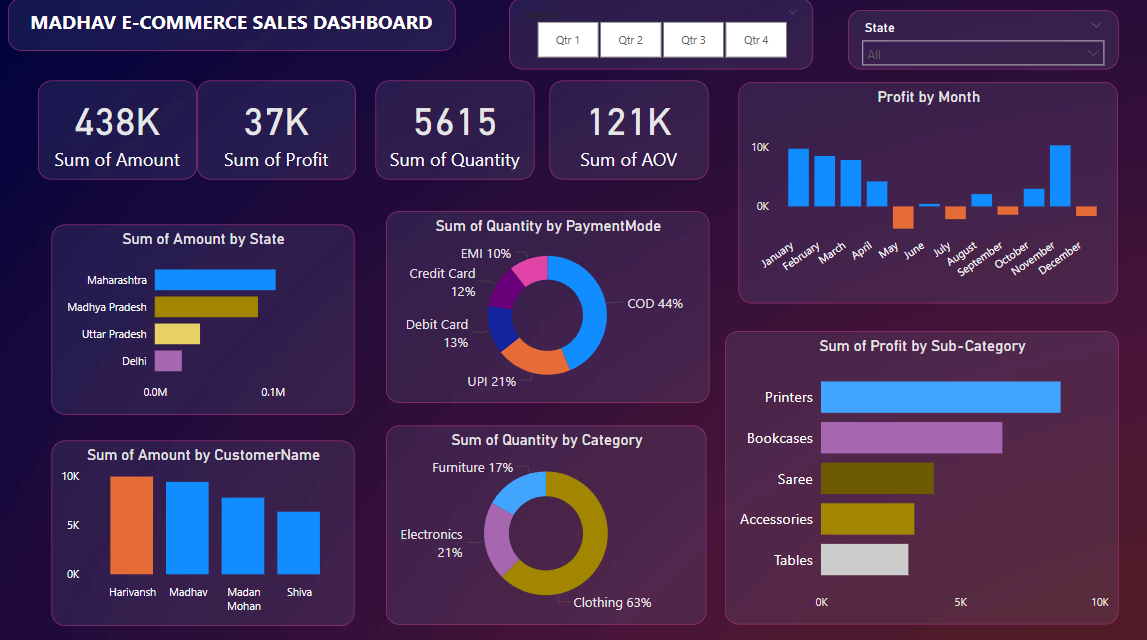

The page's visual inventory and layout, read from the dashboard file:
{"tool":"powerbi","page":{"name":"Page 1","canvas":[1280,720],"ordinal":0},"visuals":[{"type":"textbox","box":[9.4,0,497,58.6],"z":0},{"type":"columnChart","title":"Profit by Month","fields":{"Category":["Orders.Order Date.Variation.Date Hierarchy.Month"],"Y":["Details.Profit"]},"box":[822.1,92.6,421.4,245.7],"z":1000},{"type":"clusteredBarChart","fields":{"Category":["Details.Sub-Category"],"Y":["Details.Profit"]},"box":[806.4,370.6,437.4,326.1],"z":2000},{"type":"donutChart","fields":{"Category":["Details.Category"],"Y":["Details.Quantity"]},"box":[429.5,475.6,356.3,221.1],"z":3000},{"type":"donutChart","fields":{"Category":["Details.PaymentMode"],"Y":["Details.Quantity"]},"box":[429.5,237,359.5,213.1],"z":4000},{"type":"card","fields":{"Values":["Details.Amount"]},"box":[42.9,92.3,176.6,109.8],"z":5000},{"type":"card","fields":{"Values":["Details.Profit"]},"box":[219.5,92.3,176.6,109.8],"z":6000},{"type":"card","fields":{"Values":["Details.Quantity"]},"box":[418.3,92.3,176.6,109.8],"z":7000},{"type":"card","fields":{"Values":["Details.AOV"]},"box":[612.4,92.3,176.6,109.8],"z":8000},{"type":"clusteredBarChart","fields":{"Category":["Orders.State"],"Y":["Details.Amount"]},"box":[58.6,251.3,336.4,211.7],"z":9000},{"type":"columnChart","fields":{"Category":["Orders.CustomerName"],"Y":["Details.Amount"]},"box":[58.6,491.3,336.4,206],"z":10000},{"type":"slicer","fields":{"Values":["Orders.Order Date.Variation.Date Hierarchy.Quarter"]},"box":[566.9,0,338.3,79.4],"z":11000},{"type":"slicer","fields":{"Values":["Orders.State"]},"box":[943,13.2,300.5,66.1],"z":12000}]}

Visuals, with their boxes in screenshot pixels (x1, y1, x2, y2), scaled from the page's 1280x720 canvas onto the 1147x640 screenshot:
textbox: rect(8, 0, 454, 52)
"Profit by Month" columnChart: rect(737, 82, 1114, 301)
clusteredBarChart - Details.Sub-Category x Details.Profit: rect(723, 329, 1115, 619)
donutChart - Details.Category x Details.Quantity: rect(385, 423, 704, 619)
donutChart - Details.PaymentMode x Details.Quantity: rect(385, 211, 707, 400)
card - Details.Amount: rect(38, 82, 197, 180)
card - Details.Profit: rect(197, 82, 355, 180)
card - Details.Quantity: rect(375, 82, 533, 180)
card - Details.AOV: rect(549, 82, 707, 180)
clusteredBarChart - Orders.State x Details.Amount: rect(53, 223, 354, 412)
columnChart - Orders.CustomerName x Details.Amount: rect(53, 437, 354, 620)
slicer - Orders.Order Date.Variation.Date Hierarchy.Quarter: rect(508, 0, 811, 71)
slicer - Orders.State: rect(845, 12, 1114, 70)
